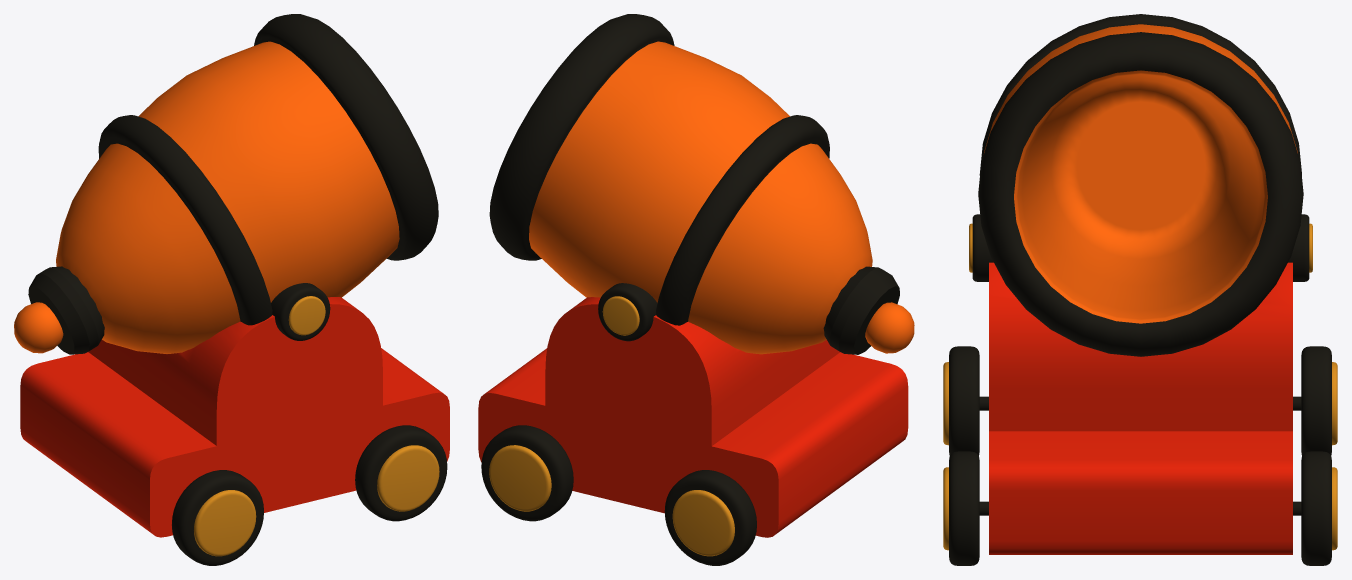
3 views of the same model, side by side, from view 1: azimuth 30°, elevation 25°; view 2: azimuth 150°, elevation 25°; view 3: azimuth 270°, elevation 25° (orthographic). The views are drawn at different scales.
Visible parts, largest first — view 1: Sphere071, Box020, Group106, Cylinder070, Cylinder072, Cylinder039, Group101, Group047, Sphere072, Cylinder075, Group104; view 2: Sphere071, Box020, Group106, Cylinder070, Cylinder074, Cylinder073, Group103, Group102, Sphere072, Cylinder076, Group105; view 3: Box020, Sphere071, Group106, Cylinder072, Cylinder074, Cylinder039, Cylinder073, Cylinder076, Cylinder075, Group101, Group103, Group047 (+1 smaller).
Boxes of the visible parts, x1,y1,x2,y2 form: Sphere071: [56, 41, 399, 353]; Box020: [20, 297, 449, 537]; Group106: [98, 14, 438, 325]; Cylinder070: [28, 266, 104, 354]; Cylinder072: [355, 425, 447, 521]; Cylinder039: [172, 470, 263, 565]; Group101: [377, 445, 439, 511]; Group047: [194, 490, 256, 556]; Sphere072: [14, 302, 63, 353]; Cylinder075: [271, 283, 330, 340]; Group104: [288, 296, 325, 335]; Sphere071: [529, 41, 872, 354]; Box020: [478, 297, 908, 537]; Group106: [489, 14, 829, 325]; Cylinder070: [823, 266, 899, 354]; Cylinder074: [481, 425, 573, 521]; Cylinder073: [664, 470, 756, 565]; Group103: [489, 445, 551, 511]; Group102: [672, 490, 734, 556]; Sphere072: [865, 302, 914, 353]; Cylinder076: [598, 283, 657, 341]; Group105: [602, 296, 639, 335]; Box020: [989, 262, 1292, 554]; Sphere071: [984, 24, 1297, 323]; Group106: [978, 14, 1303, 356]; Cylinder072: [949, 451, 988, 565]; Cylinder074: [1293, 451, 1331, 565]; Cylinder039: [949, 346, 988, 455]; Cylinder073: [1293, 346, 1331, 455]; Cylinder076: [1288, 214, 1309, 281]; Cylinder075: [972, 214, 993, 281]; Group101: [943, 467, 948, 550]; Group103: [1332, 467, 1337, 550]; Group047: [943, 362, 948, 445].
Size of the model in its own units: 45.26 by 49.3 by 34.07.
